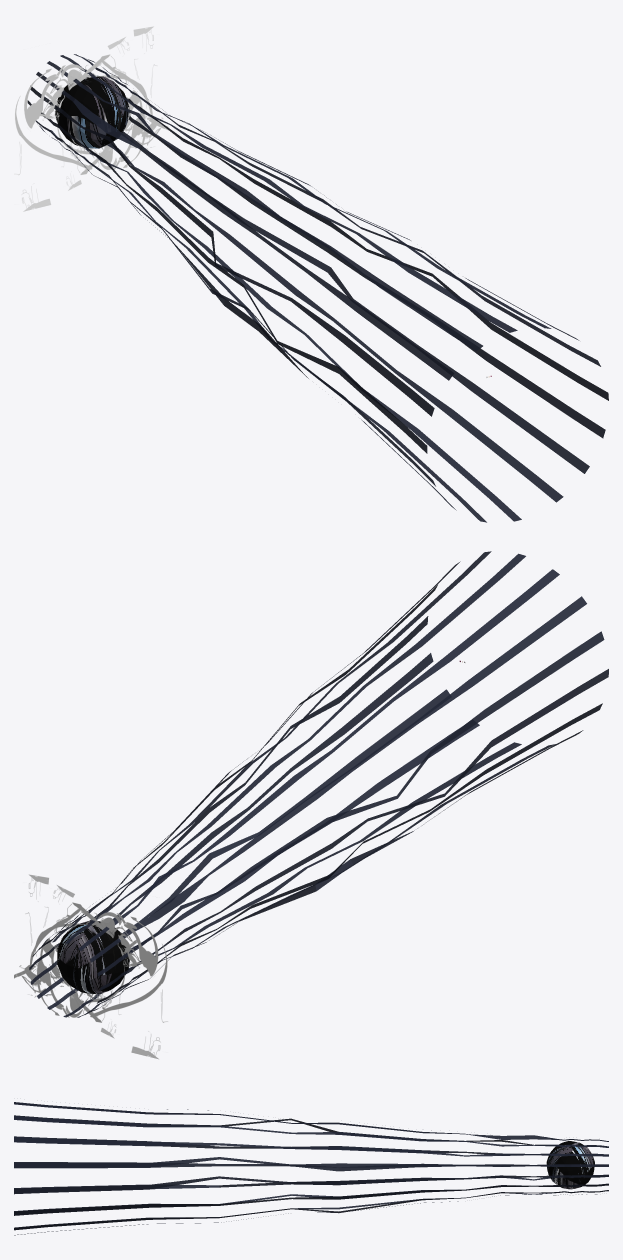
Rendered from env.glb.
3 views of the same model, one above another, from view 1: azimuth 30°, elevation 25°; view 2: azimuth 150°, elevation 25°; view 3: azimuth 270°, elevation 25° (orthographic). The views are drawn at different scales.
Visible parts, largest first — view 1: tunnel_R, galaxy_R, planet_R; view 2: tunnel_R, galaxy_R, planet_R; view 3: tunnel_R, planet_R.
Boxes of the visible parts, x1,y1,x2,y2 form: tunnel_R: [27, 54, 608, 522]; galaxy_R: [14, 26, 168, 211]; planet_R: [55, 75, 129, 148]; tunnel_R: [29, 551, 608, 1017]; galaxy_R: [14, 874, 167, 1059]; planet_R: [57, 920, 129, 993]; tunnel_R: [14, 1102, 608, 1235]; planet_R: [546, 1141, 594, 1189].
Bounding box in the file's own units: 8.53 × 8.52 × 36.93.
6 materials, 4 textured.
